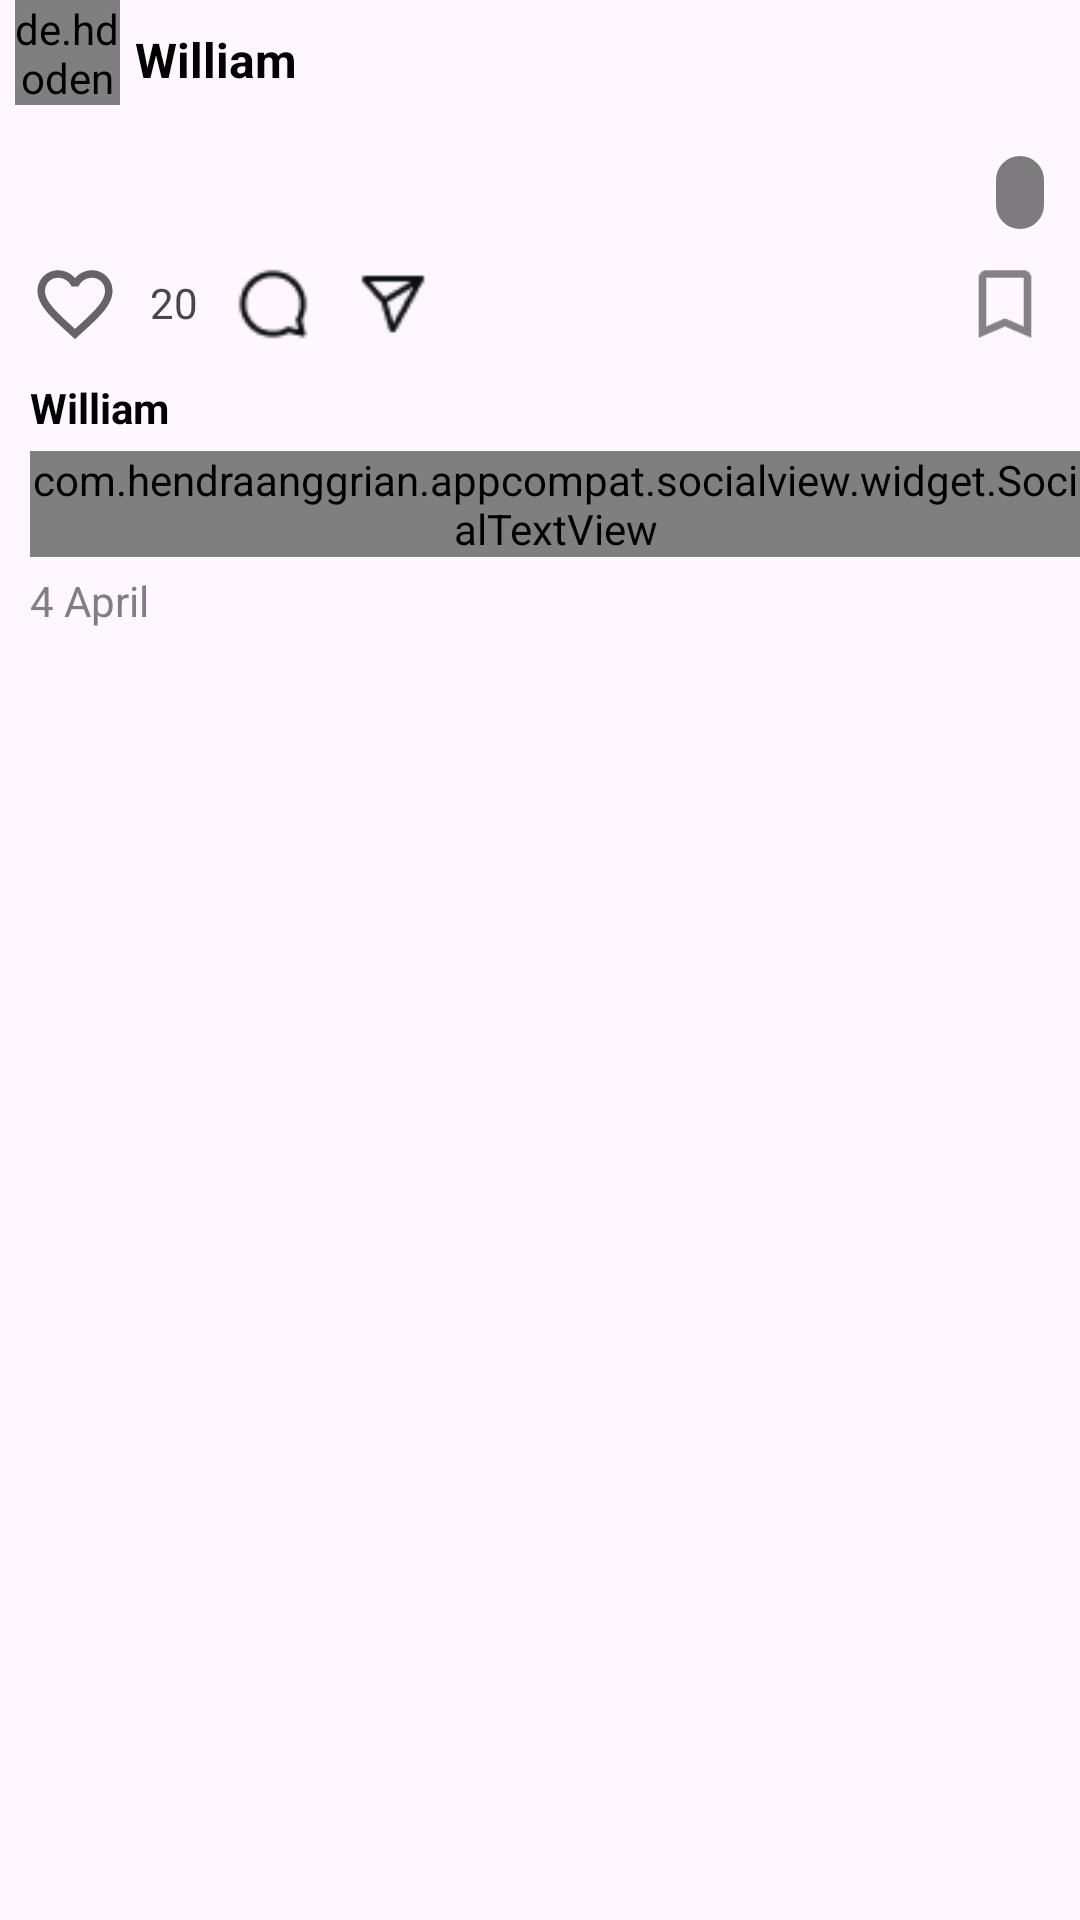

Point at icon controls on the screen. Image size 1080w x 1920h, points as (x,y).
comment: (273,304)
like: (75,304)
save: (1005,304)
share: (393,304)
